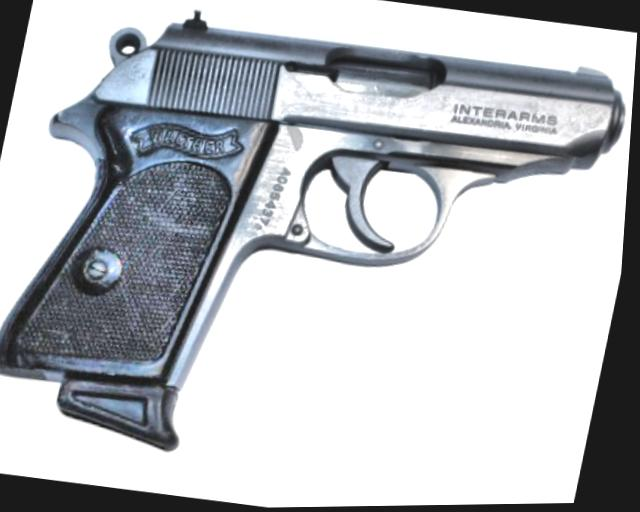pistol: (0, 0, 640, 506)
